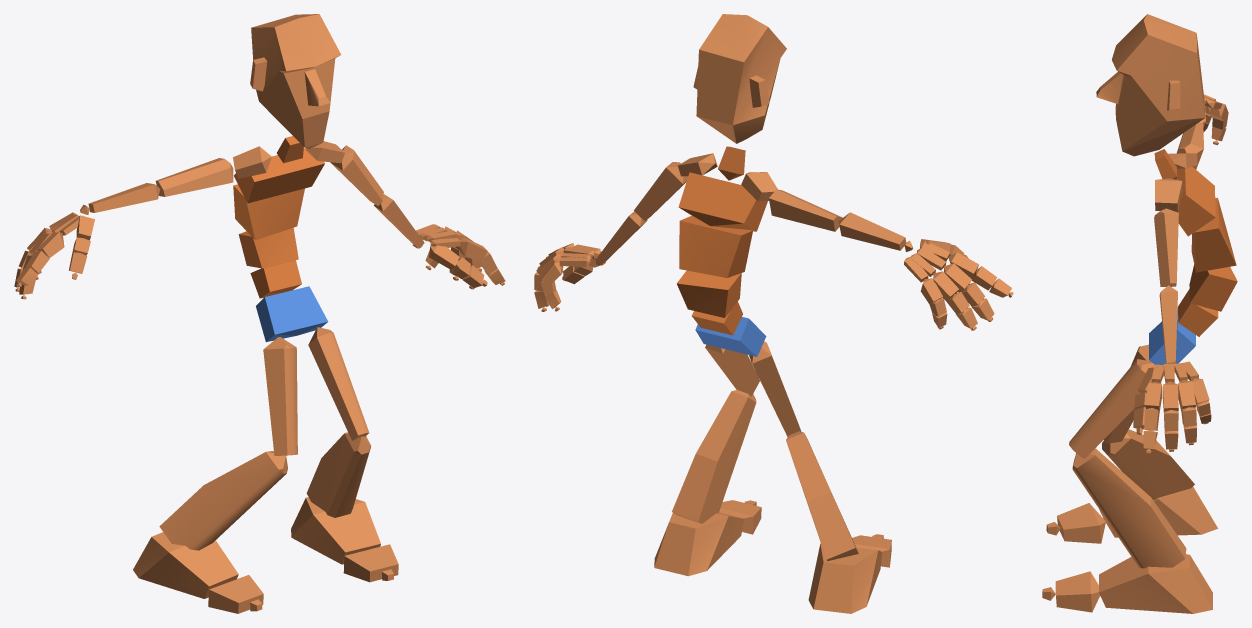
3 renders of one model, left to right at view 1: azimuth 30°, elevation 25°; view 2: azimuth 150°, elevation 25°; view 3: azimuth 270°, elevation 25°, orthographic. The views are drawn at different scales.
Parts seen in each view (by area): view 1: BOPED_Head, BOPED_R_leg, BOPED_R_foot, BOPED_R_foot01, BOPED_L_leg, BOPED_R_legup, BOPED_L_legup, Bone01, Bone04, Bone05, BOPED_R_arm_upper, Bone03 (+7 smaller); view 2: BOPED_Head, BOPED_L_leg, BOPED_R_foot01, BOPED_R_foot, BOPED_R_leg, Bone04, Bone05, Bone03, BOPED_R_legup, BOPED_R_arm_upper, Bone01, BOPED_L_legup (+8 smaller); view 3: BOPED_Head, BOPED_L_leg, BOPED_R_foot01, BOPED_R_leg, BOPED_L_legup, BOPED_R_foot, Bone05, Bone04, Bone03, BOPED_L_arm_upper, BOPED_R_foot_toe01, BOPED_R_foot_toe04 (+15 smaller).
Part boxes in pixels (x1,y1,x2,y2): BOPED_Head: [250, 14, 341, 148]; BOPED_R_leg: [159, 451, 287, 550]; BOPED_R_foot: [133, 532, 238, 598]; BOPED_R_foot01: [291, 497, 380, 564]; BOPED_L_leg: [306, 432, 371, 517]; BOPED_R_legup: [263, 337, 297, 455]; BOPED_L_legup: [308, 327, 369, 440]; Bone01: [256, 286, 328, 342]; Bone04: [233, 184, 304, 240]; Bone05: [234, 148, 324, 203]; BOPED_R_arm_upper: [155, 158, 233, 196]; Bone03: [238, 227, 298, 268]; BOPED_Head: [693, 14, 786, 143]; BOPED_L_leg: [672, 390, 756, 523]; BOPED_R_foot01: [654, 512, 744, 576]; BOPED_R_foot: [808, 543, 882, 613]; BOPED_R_leg: [786, 431, 858, 561]; Bone04: [679, 216, 752, 277]; Bone05: [678, 172, 767, 231]; Bone03: [676, 270, 741, 317]; BOPED_R_legup: [749, 341, 801, 436]; BOPED_R_arm_upper: [769, 189, 842, 231]; Bone01: [695, 317, 766, 356]; BOPED_L_legup: [705, 344, 759, 396]; BOPED_Head: [1096, 14, 1205, 156]; BOPED_L_leg: [1072, 448, 1186, 568]; BOPED_R_foot01: [1099, 554, 1212, 613]; BOPED_R_leg: [1102, 429, 1194, 499]; BOPED_L_legup: [1069, 359, 1154, 458]; BOPED_R_foot: [1099, 486, 1217, 537]; Bone05: [1176, 166, 1215, 236]; Bone04: [1191, 197, 1236, 272]; Bone03: [1189, 264, 1237, 311]; BOPED_L_arm_upper: [1154, 208, 1178, 286]; BOPED_R_foot_toe01: [1057, 503, 1105, 543]; BOPED_R_foot_toe04: [1055, 571, 1100, 612].
Size of the model in its own units: 166 by 178 by 56.5.
